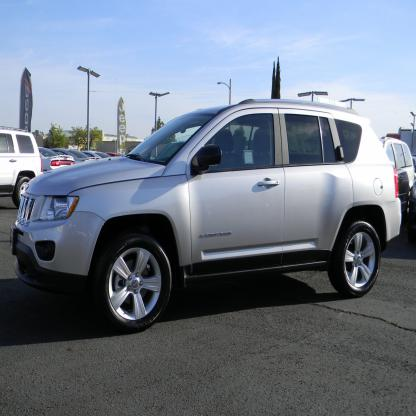Vehicle: (10, 98, 402, 334)
